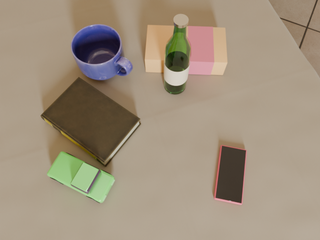book: (41, 77, 141, 167)
bottle: (163, 14, 191, 94)
box: (145, 25, 227, 75)
cup: (71, 24, 133, 80)
phone: (214, 145, 247, 205)
toy_car: (47, 152, 115, 203)
